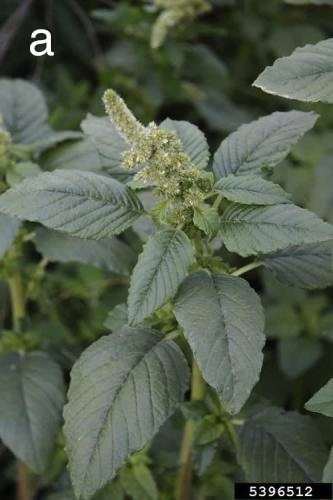Redroot Pigweed: (97, 82, 232, 250)
